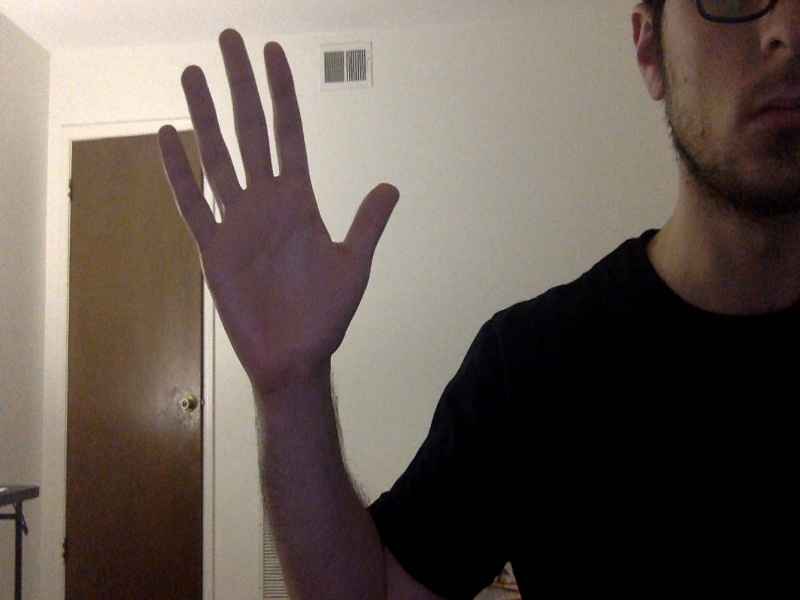5-hand: (159, 28, 401, 392)
